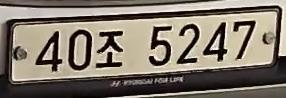0: (65, 26, 95, 75)
2: (176, 22, 202, 66)
4: (31, 29, 65, 76), (201, 20, 231, 63)
5: (147, 24, 174, 66)
7: (231, 18, 257, 62)
조: (94, 29, 127, 70)
